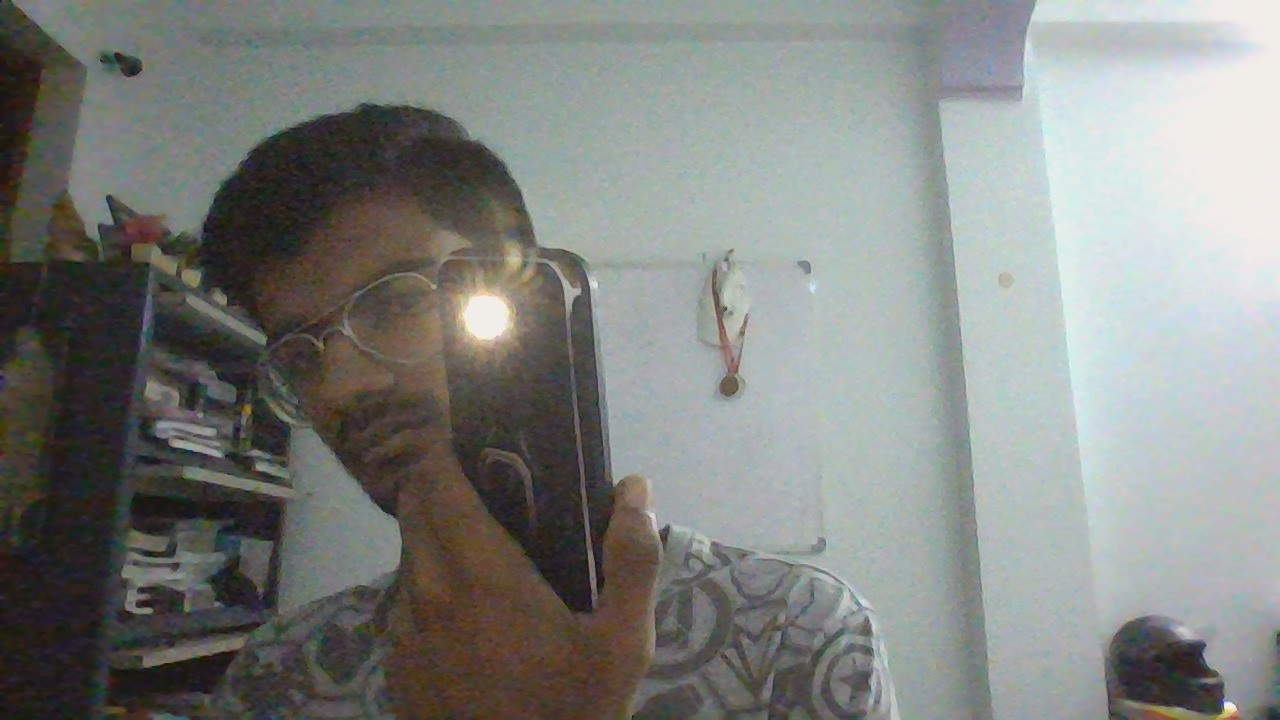Glare: (462, 295, 512, 339)
